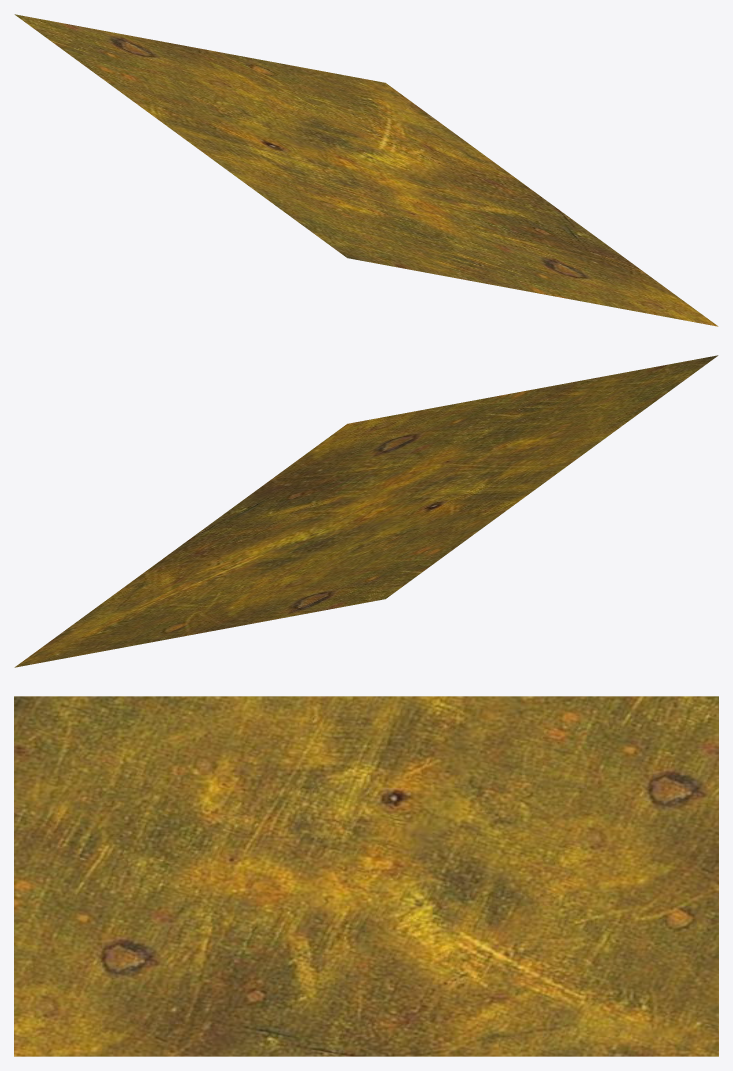
3 views of the same model, one above another, from view 1: azimuth 30°, elevation 25°; view 2: azimuth 150°, elevation 25°; view 3: azimuth 270°, elevation 25° (orthographic). The views are drawn at different scales.
Parts seen in each view (by area): view 1: 4_base__material_4_13_8; view 2: 4_base__material_4_13_8; view 3: 4_base__material_4_13_8.
Boxes of the visible parts, x1=… form: 4_base__material_4_13_8: x1=14, y1=14, x2=718, y2=326; 4_base__material_4_13_8: x1=14, y1=355, x2=718, y2=667; 4_base__material_4_13_8: x1=14, y1=696, x2=718, y2=1056.
Size of the model in its own units: 0.000679 by 0.000278 by 0.00105.
1 material, 1 textured.
